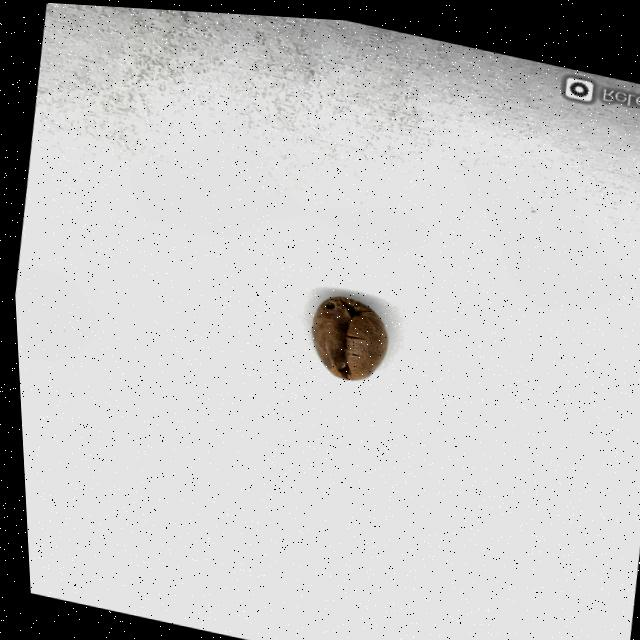Insect damage: (302, 287, 389, 385)
